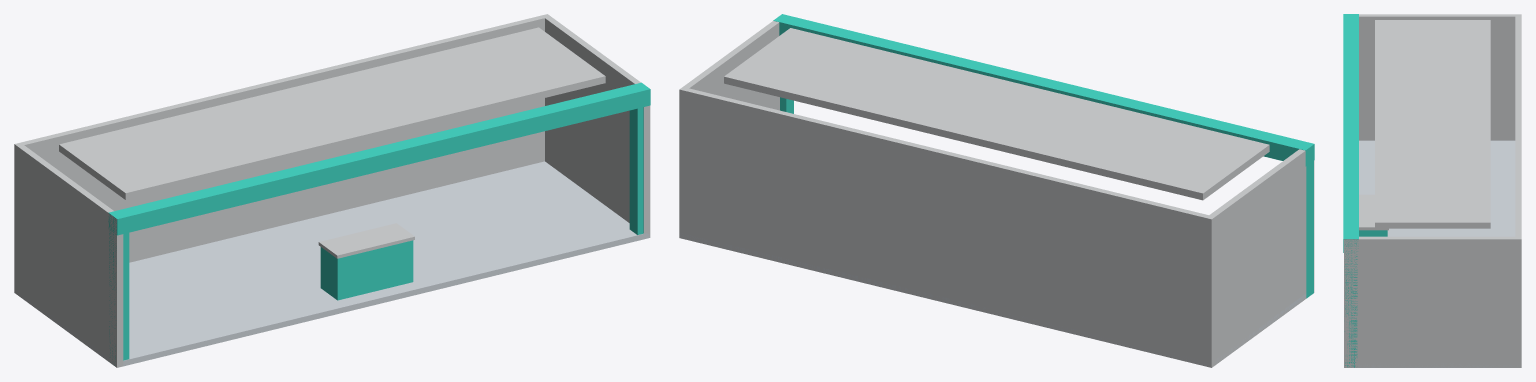
The picture shows the model from 3 angles, left to right: view 1: azimuth 30°, elevation 25°; view 2: azimuth 150°, elevation 25°; view 3: azimuth 270°, elevation 25°; orthographic projection. The views are drawn at different scales.
Parts seen in each view (by area): view 1: Exhibition Booth Concept; view 2: Exhibition Booth Concept; view 3: Exhibition Booth Concept.
Boxes of the visible parts, x1=… form: Exhibition Booth Concept: x1=14, y1=14, x2=650, y2=367; Exhibition Booth Concept: x1=679, y1=14, x2=1314, y2=367; Exhibition Booth Concept: x1=1343, y1=14, x2=1521, y2=367.
Size of the model in its own units: 12 by 3.34 by 4.02.
